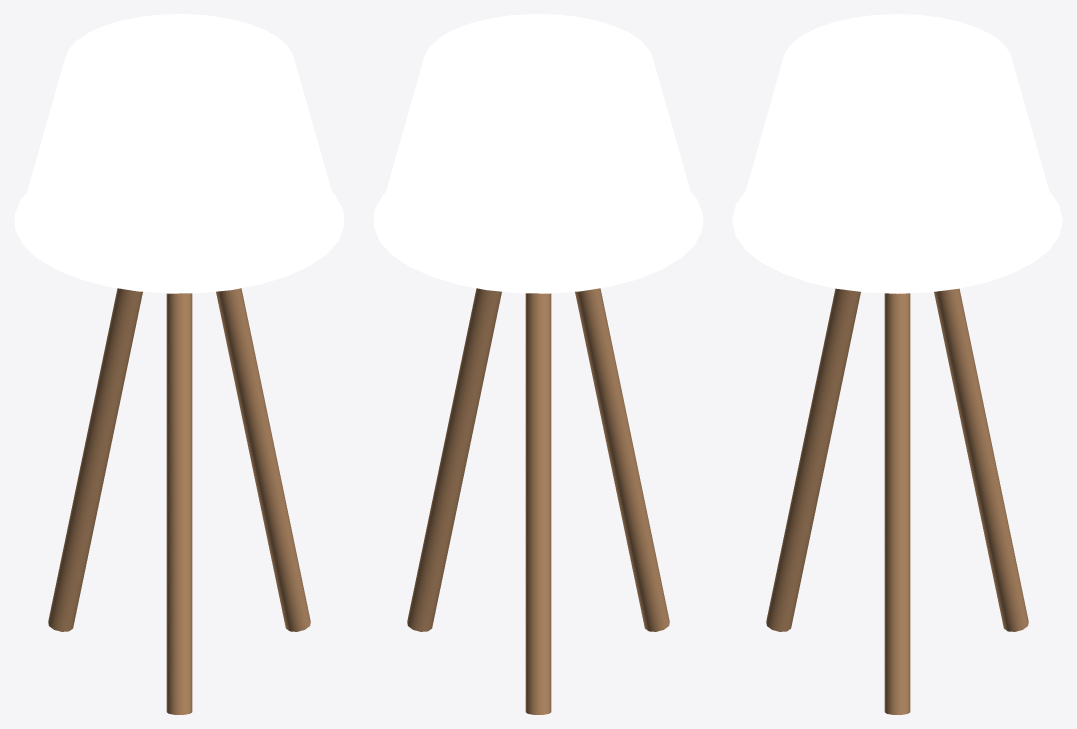
Rendered from lampFloorTripod.glb.
3 views of the same model, side by side, from view 1: azimuth 30°, elevation 25°; view 2: azimuth 150°, elevation 25°; view 3: azimuth 270°, elevation 25° (orthographic).
Parts seen in each view (by area): view 1: Sage lampshade, Tripod oak leg.002, Tripod oak leg.001, Tripod oak leg, Shade cream piping; view 2: Sage lampshade, Tripod oak leg.001, Tripod oak leg.002, Tripod oak leg, Shade cream piping; view 3: Sage lampshade, Tripod oak leg, Tripod oak leg.001, Tripod oak leg.002, Shade cream piping.
Part boxes in pixels (bbox=[...]): Sage lampshade: bbox=[21, 14, 337, 281]; Tripod oak leg.002: bbox=[166, 293, 192, 714]; Tripod oak leg.001: bbox=[48, 288, 142, 631]; Tripod oak leg: bbox=[216, 288, 310, 631]; Shade cream piping: bbox=[14, 193, 344, 293]; Sage lampshade: bbox=[380, 14, 696, 281]; Tripod oak leg.001: bbox=[525, 293, 551, 714]; Tripod oak leg.002: bbox=[575, 288, 669, 631]; Tripod oak leg: bbox=[407, 288, 501, 631]; Shade cream piping: bbox=[373, 193, 703, 293]; Sage lampshade: bbox=[739, 14, 1055, 282]; Tripod oak leg: bbox=[884, 293, 910, 714]; Tripod oak leg.001: bbox=[934, 288, 1028, 631]; Tripod oak leg.002: bbox=[766, 288, 860, 631]; Shade cream piping: bbox=[732, 191, 1062, 293].
Size of the model in its own units: 0.892 by 1.77 by 0.892.
